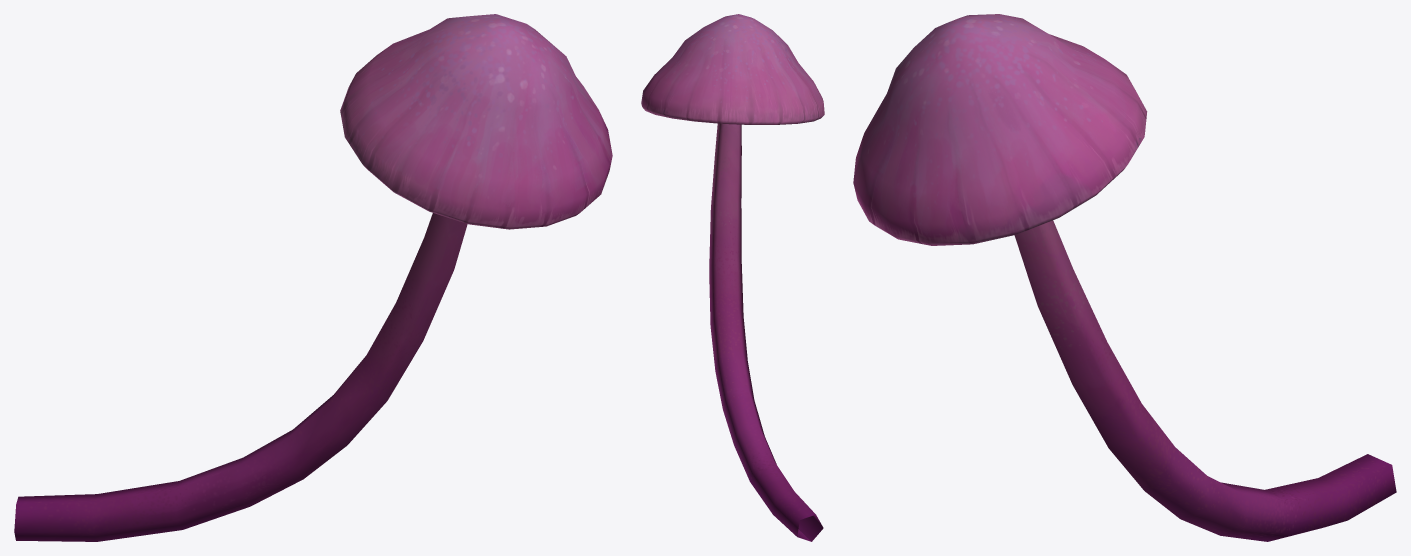
The model's file is SM_Mush_3.fbx.
The picture shows the model from 3 angles, left to right: view 1: azimuth 30°, elevation 25°; view 2: azimuth 150°, elevation 25°; view 3: azimuth 270°, elevation 25°; orthographic projection. The views are drawn at different scales.
Visible parts, largest first — view 1: SM_Mush_3; view 2: SM_Mush_3; view 3: SM_Mush_3.
Boxes of the visible parts, x1,y1,x2,y2 form: SM_Mush_3: (14, 14, 612, 541); SM_Mush_3: (641, 14, 824, 541); SM_Mush_3: (853, 14, 1396, 541).
Size of the model in its own units: 51.39 by 68.15 by 52.9.
